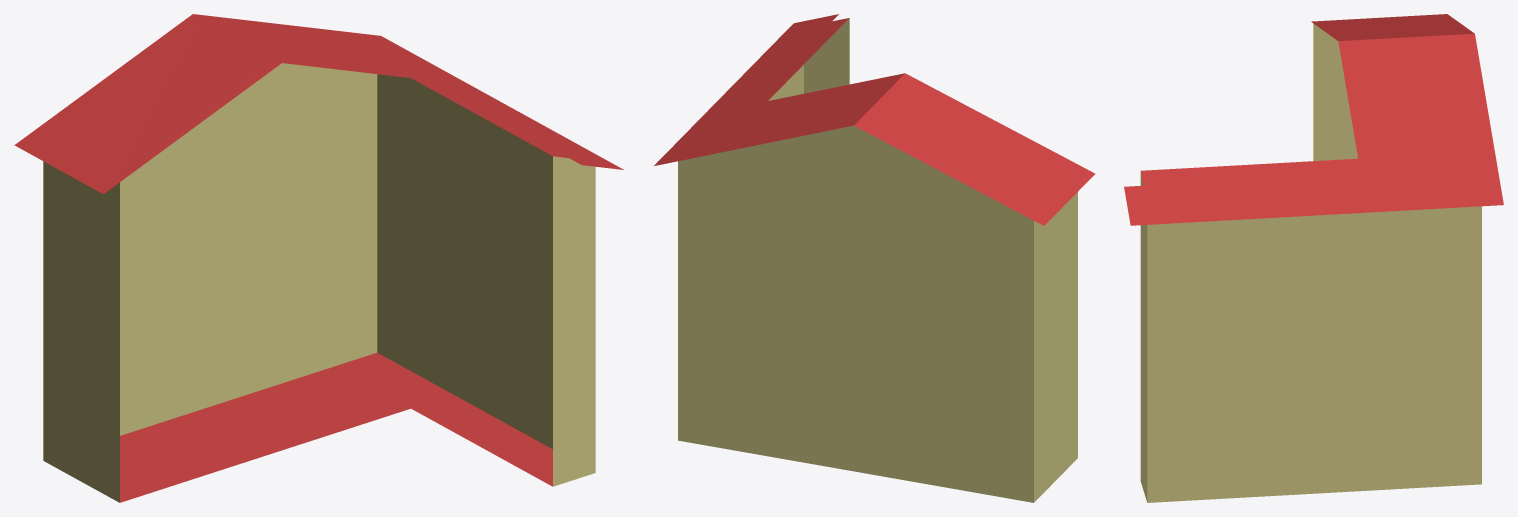
3 views of the same model, side by side, from view 1: azimuth 30°, elevation 25°; view 2: azimuth 150°, elevation 25°; view 3: azimuth 270°, elevation 25° (orthographic). The views are drawn at different scales.
Bounding box in the file's own units: 12.35 × 9.77 × 10.34.
